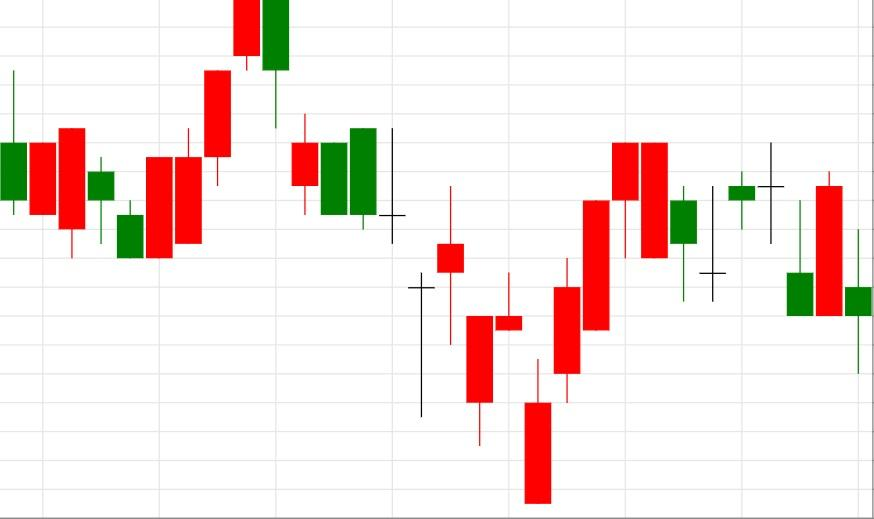bearish_engulfing_fall: (116, 0, 289, 258)
bullish_engulfing_rise: (0, 69, 173, 259)
